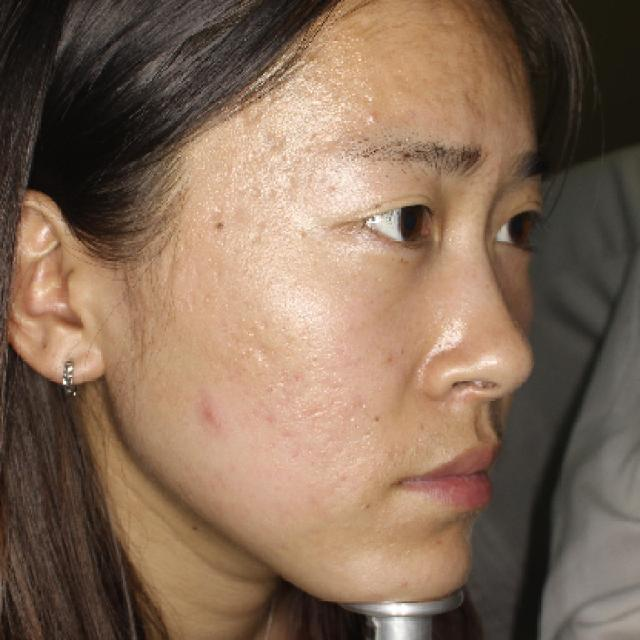acne: (194, 400, 226, 431), (204, 212, 234, 237), (362, 106, 390, 129)
